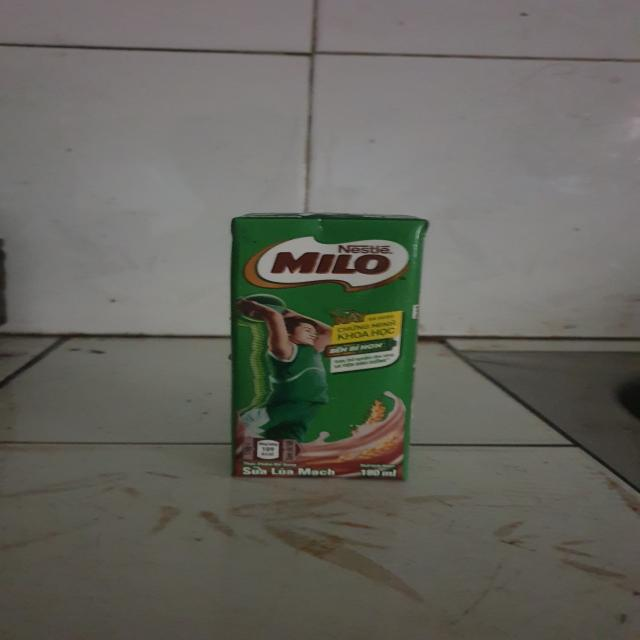Milo: (233, 217, 425, 479)
